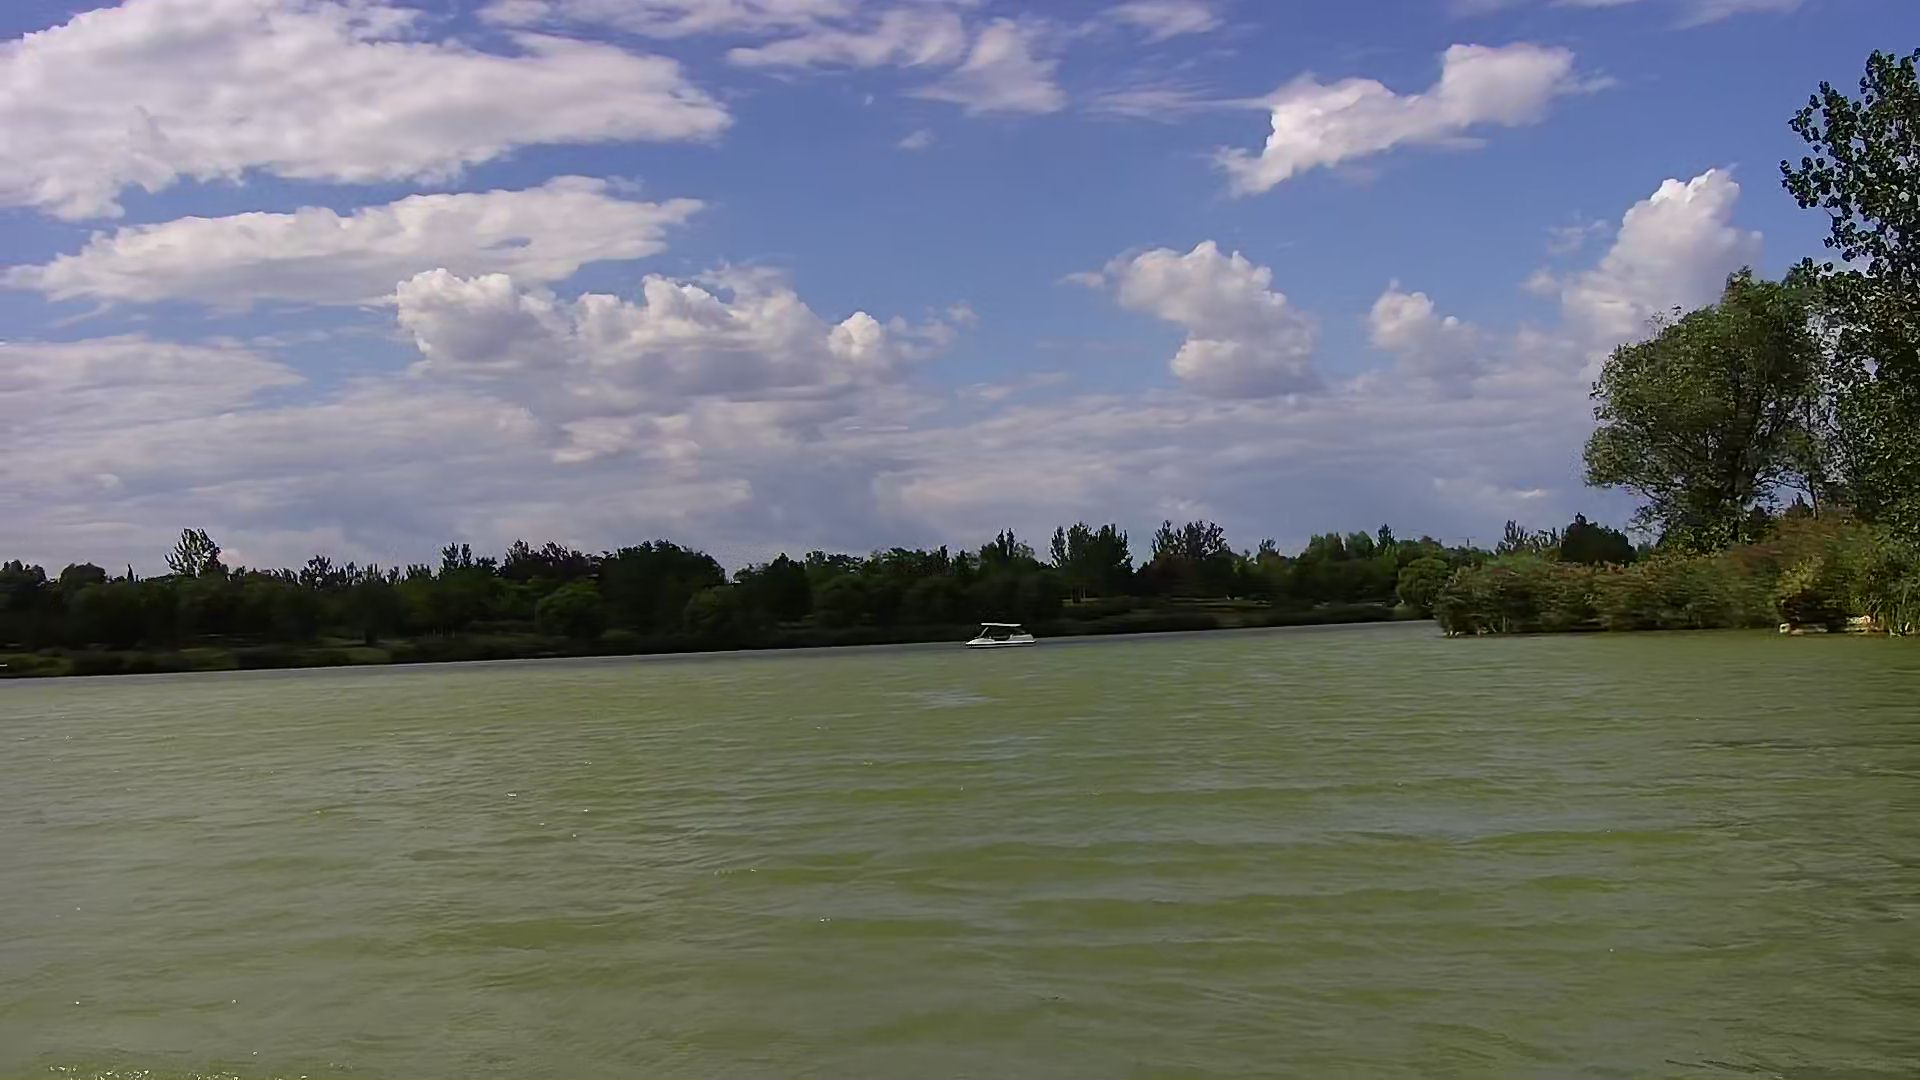boat: (959, 617, 1047, 654)
